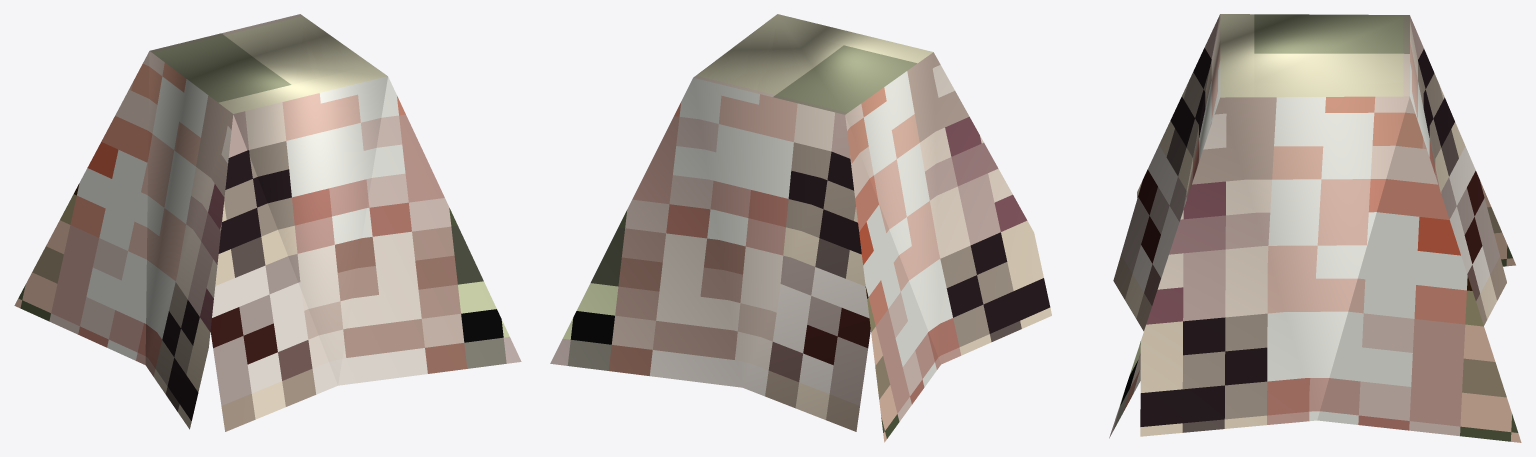
The model's file is Environment - Vegetation - Tree Pine Stump - PTStumpPine.glb.
The picture shows the model from 3 angles, left to right: view 1: azimuth 30°, elevation 25°; view 2: azimuth 150°, elevation 25°; view 3: azimuth 270°, elevation 25°; orthographic projection. The views are drawn at different scales.
Parts seen in each view (by area): view 1: PTSTUMPPINE; view 2: PTSTUMPPINE; view 3: PTSTUMPPINE.
Boxes of the visible parts, x1=… form: PTSTUMPPINE: x1=14, y1=14, x2=521, y2=431; PTSTUMPPINE: x1=550, y1=14, x2=1051, y2=442; PTSTUMPPINE: x1=1109, y1=14, x2=1521, y2=442.
Bounding box in the file's own units: 4.3 × 3.33 × 4.25.
1 material, 1 textured.
